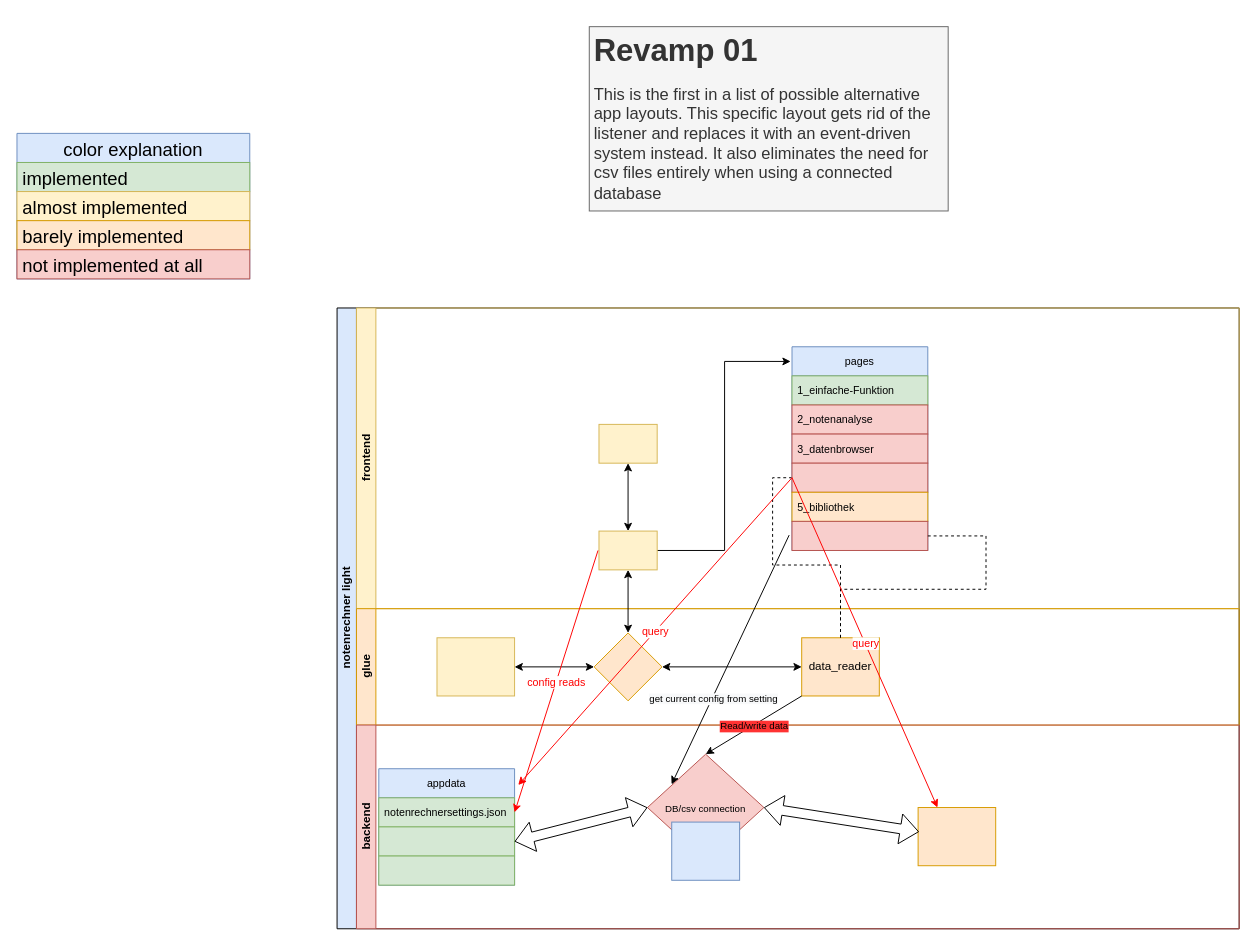
Image size: 1256x946. Some labels were removed from this diagram. Here are the shapes that lost their labels. From the top down, the centre of each, then its label:
At (627,443): "home".
At (859,477): "4_query-datenbrowser".
At (627,550): "main".
At (859,535): "6_Einstellungen".
At (475,666): "data_objcts".
At (627,666): "data_core".
At (446,841): "/user_data full csv".
At (705,850): "connects to either db or csv's depending on settings".
At (956,836): "ORA DB 21c XE".
At (446,870): "/user_data minimal csv".
